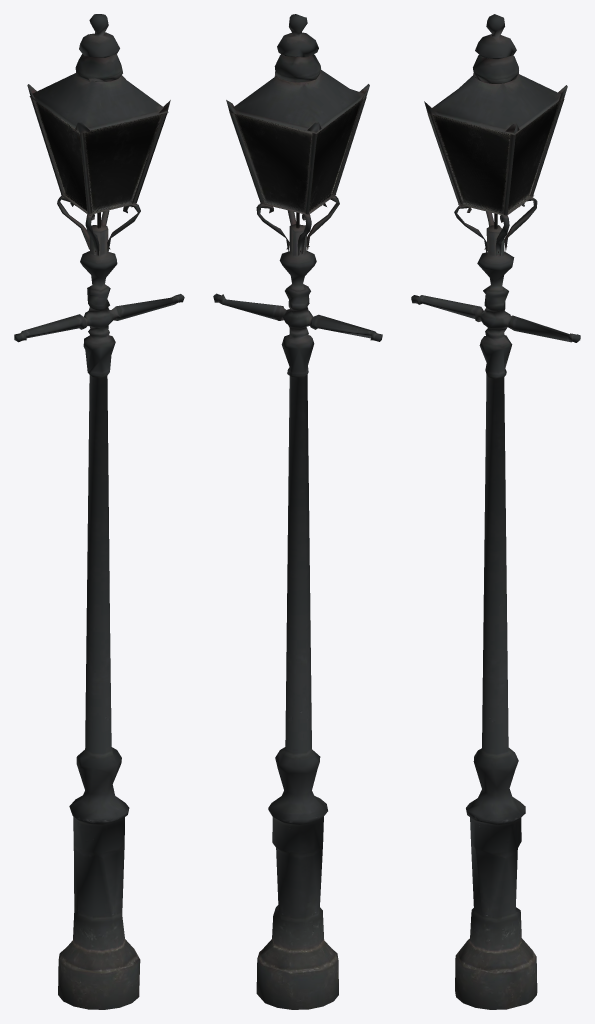
The model's file is ph_street_lamp_01_lod1.glb.
The picture shows the model from 3 angles, left to right: view 1: azimuth 30°, elevation 25°; view 2: azimuth 150°, elevation 25°; view 3: azimuth 330°, elevation 25°; orthographic projection.
Visible parts, largest first — view 1: street_lamp_01; view 2: street_lamp_01; view 3: street_lamp_01.
Part boxes in pixels (<box>): street_lamp_01: <box>14,14,184,1009</box>; street_lamp_01: <box>213,14,382,1009</box>; street_lamp_01: <box>411,14,580,1009</box>.
Size of the model in its own units: 0.6964 by 3.87 by 0.3844.
2 materials, 2 textured.
